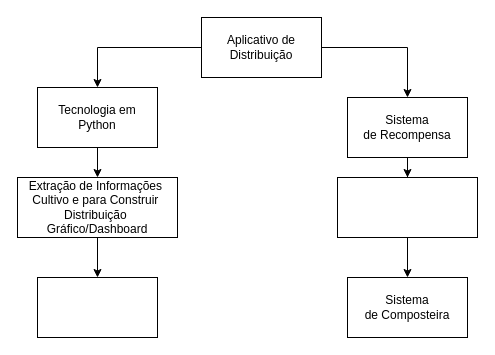
The diagram is 495 pixels wide and 355 high, and some of its shapes have lost their labels. Each missing label, with the box of its shape:
Melhoria na Cultivo e Distribuição: (336, 176, 478, 238)
Sistema de Compostagem: (36, 276, 158, 338)
